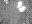person: (20, 7, 26, 14), (4, 0, 10, 6), (17, 1, 23, 6)
